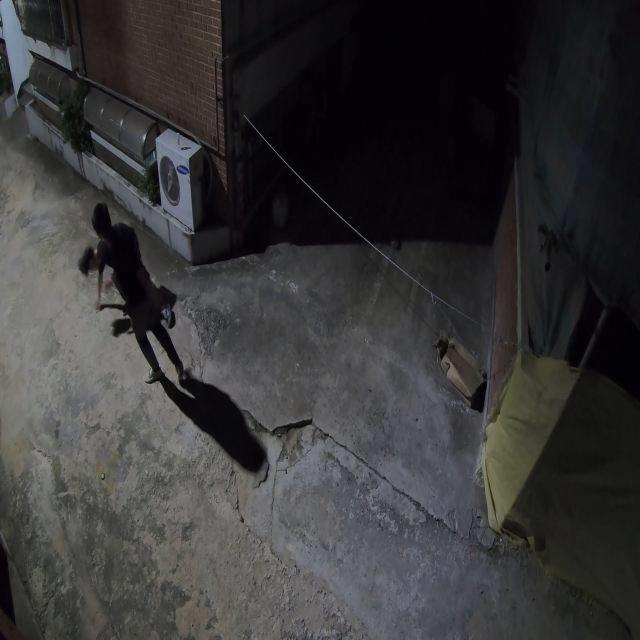fight: (80, 204, 179, 371)
